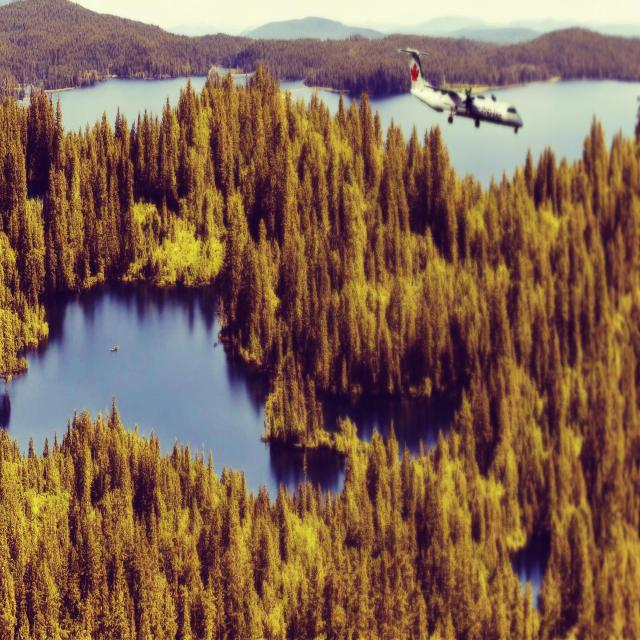airplane: (397, 47, 523, 134)
